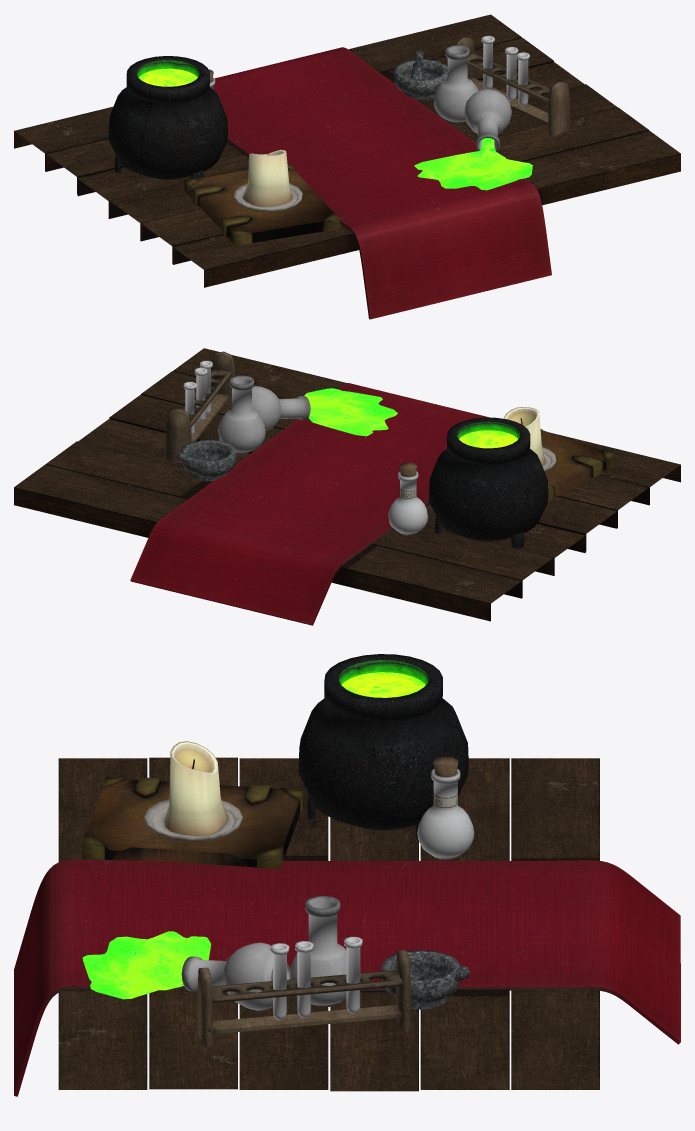
Rendered from env1.fbx.
3 renders of one model, top to bottom at view 1: azimuth 30°, elevation 25°; view 2: azimuth 150°, elevation 25°; view 3: azimuth 270°, elevation 25°, orthographic. The views are drawn at different scales.
Visible parts, largest first — view 1: Plane, Cylinder.001, Sphere.004, Cube.008, Sphere.002, Cylinder.003, Cylinder.006; view 2: Plane, Cylinder.001, Sphere.004, Sphere.002, Cube.008, Cylinder.006, Sphere.003, Cylinder.003; view 3: Plane, Cylinder.001, Cube.008, Sphere.004, Sphere.002, Cylinder.003, Sphere.003, Cylinder.006.
Part boxes in pixels (x1,y1,x2,y2): Plane: (14, 14, 680, 319); Cylinder.001: (108, 56, 227, 179); Sphere.004: (414, 45, 532, 190); Cube.008: (184, 163, 339, 245); Sphere.002: (455, 35, 569, 136); Cylinder.003: (234, 149, 302, 211); Cylinder.006: (394, 50, 447, 100); Plane: (14, 348, 680, 625); Cylinder.001: (428, 417, 548, 548); Sphere.004: (218, 375, 397, 453); Sphere.002: (166, 351, 235, 462); Cube.008: (540, 429, 616, 501); Cylinder.006: (177, 439, 236, 481); Sphere.003: (388, 462, 427, 534); Cylinder.003: (503, 407, 556, 471); Plane: (14, 757, 680, 1096); Cylinder.001: (298, 654, 468, 839); Cube.008: (82, 776, 304, 868); Sphere.004: (82, 895, 346, 1010); Sphere.002: (197, 936, 410, 1047); Cylinder.003: (144, 741, 242, 841); Sphere.003: (417, 756, 474, 859); Cylinder.006: (381, 950, 469, 1009).
Bounding box in the file's own units: 10065 × 3414 × 8557.
